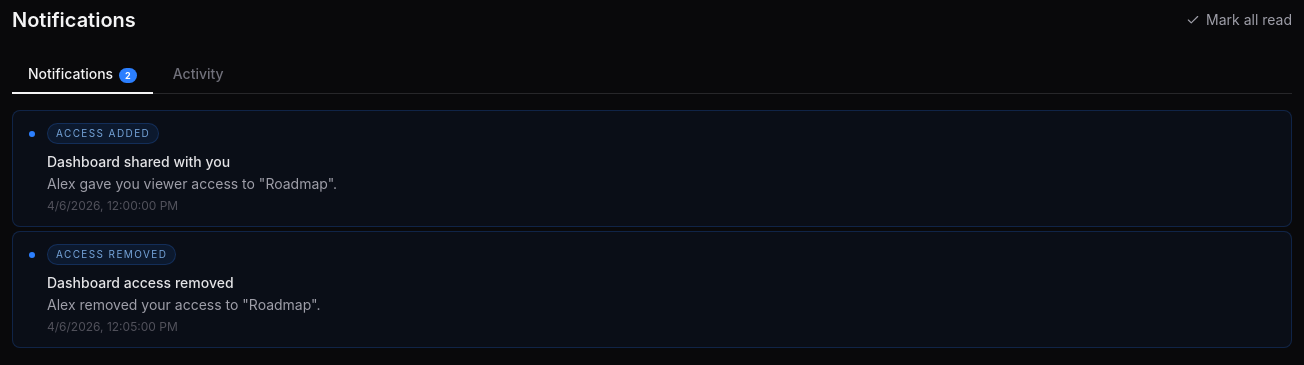
Test: NotificationsPage › renders a run of widget moves as one row, counted on its disclosure
The image size is (1304, 365).
Click the button "activity" at (198, 75), box [157,56,240,94]
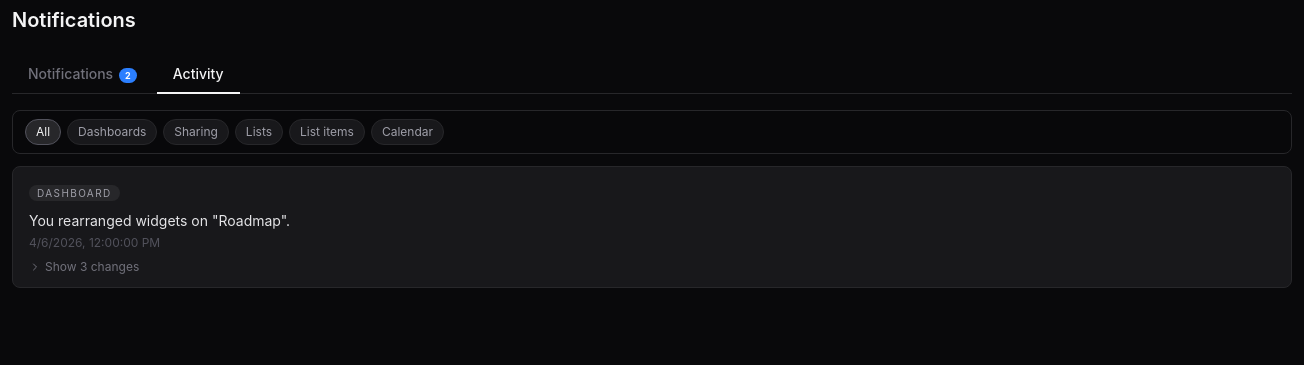
Expected: the text "You rearranged widgets on \"Roadmap\"." is shown once, [29,212,290,229]
Expected: the button "Show 3 changes" is shown, [29,259,139,275]
